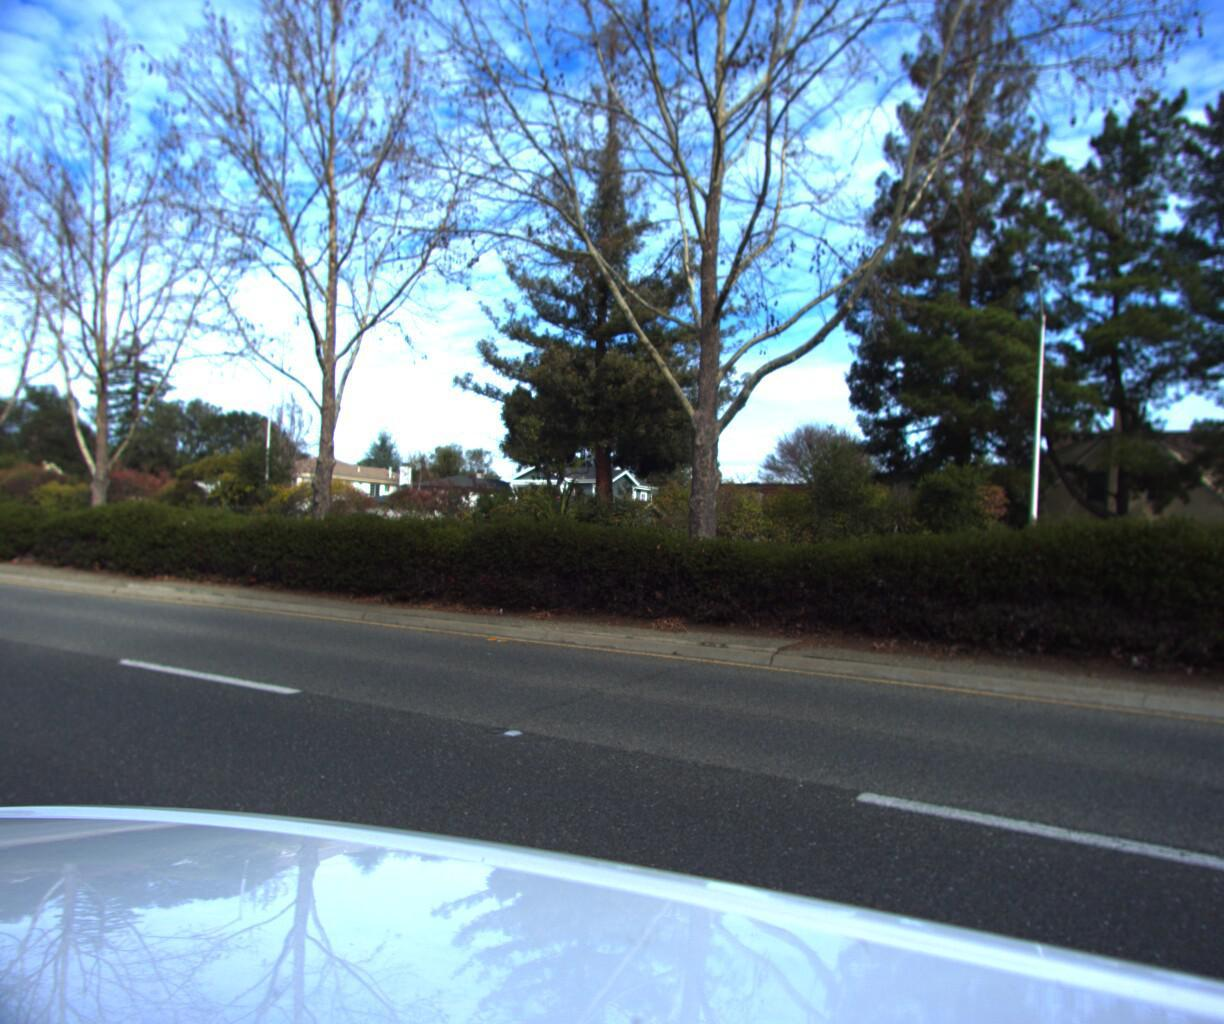car: (0, 460, 7, 712)
